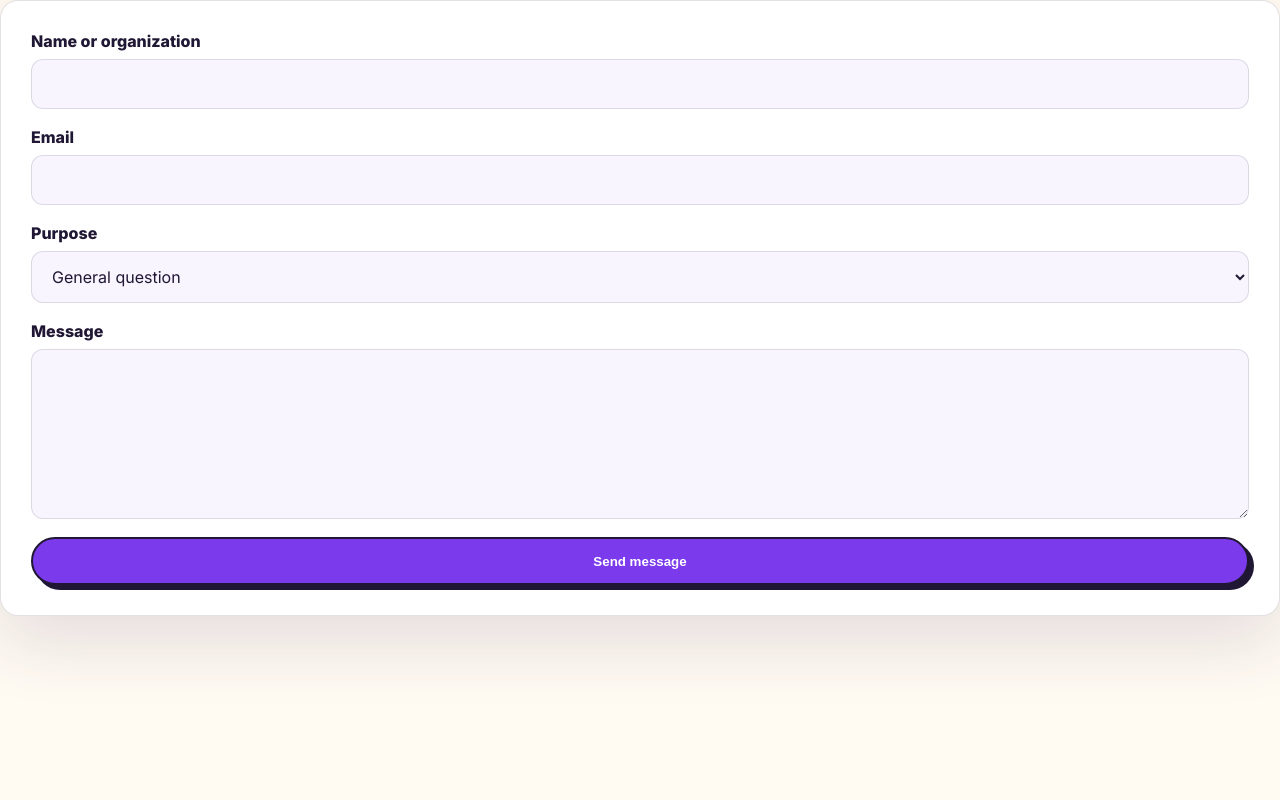
Test case: ContactForm › shows an inline failure message when the API cannot send
The width and height of the screenshot is (1280, 800).
Type "Campus Film Club" into the field labelled "Name or organization" at [640, 84], box [31, 59, 1249, 109]
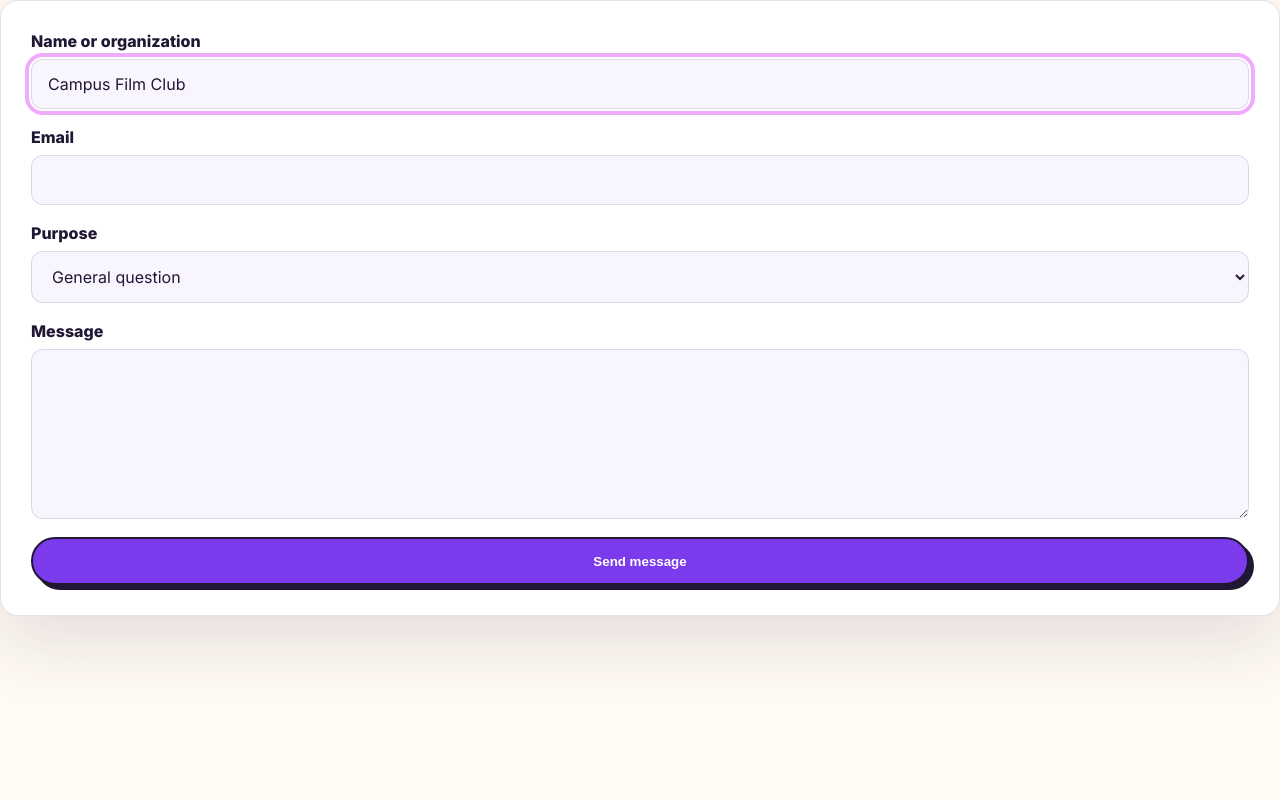
Type "student@example.edu" into the field labelled "Email" at [640, 180], box [31, 155, 1249, 205]
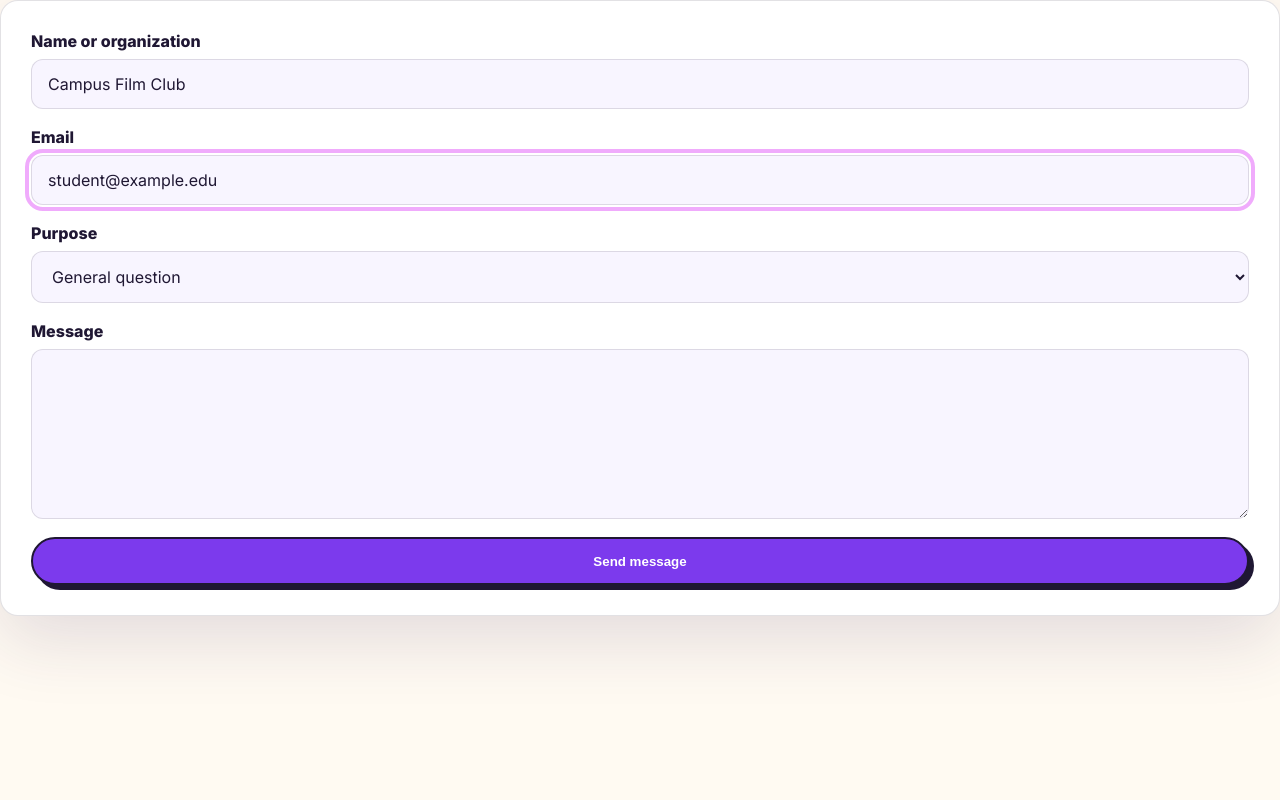
Type "Can we plan a zine night together?" into the text box labelled "Message" at [640, 434], box [31, 349, 1249, 519]
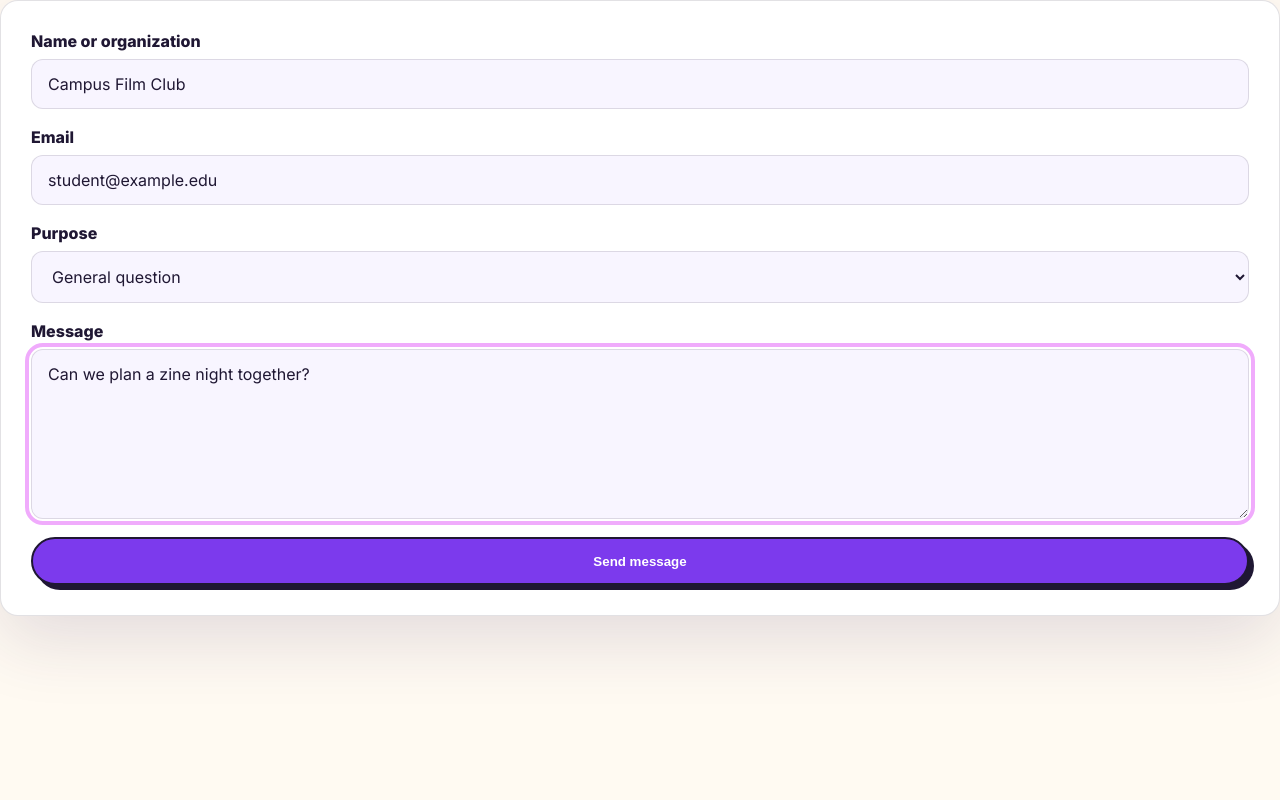
Click the button "Send message" at [640, 561], box [31, 537, 1249, 585]
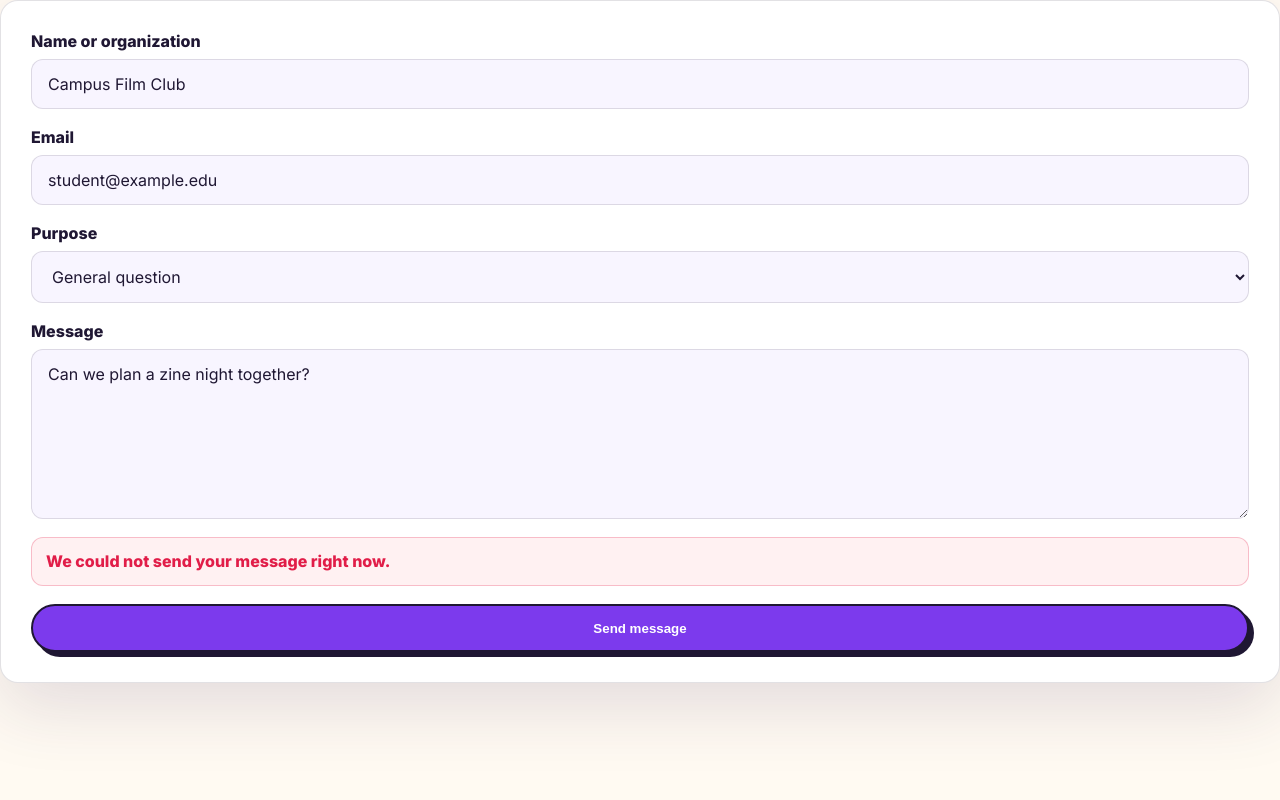
Check: the text "We could not send your message right now." is shown, box [31, 537, 1249, 586]
